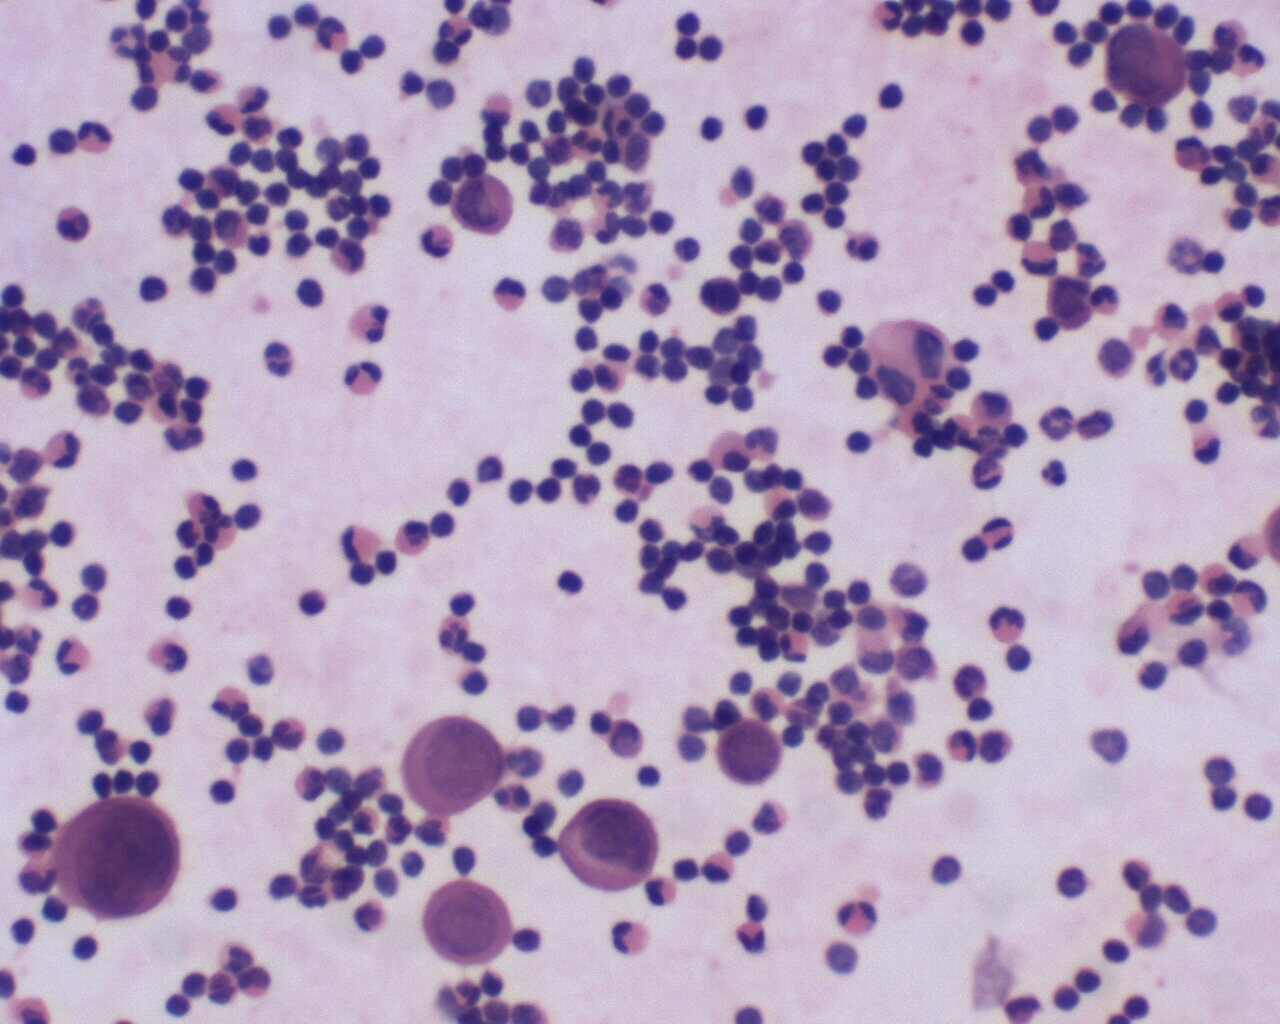ab: (45, 797, 185, 923), (398, 714, 506, 819), (556, 794, 661, 897), (1099, 19, 1193, 111), (424, 880, 516, 967), (712, 716, 785, 788), (449, 171, 513, 237)
lymph: (135, 267, 172, 304), (231, 496, 267, 533), (426, 507, 461, 543), (554, 562, 586, 601), (294, 588, 333, 619), (842, 426, 877, 459), (163, 590, 197, 623), (876, 78, 906, 115), (695, 116, 731, 144), (606, 400, 636, 432)
neutro: (339, 354, 391, 400), (986, 605, 1030, 647), (1018, 178, 1060, 222), (267, 712, 308, 752), (1085, 276, 1123, 318), (417, 220, 457, 260), (1165, 342, 1203, 383), (78, 120, 120, 157), (311, 16, 353, 50), (730, 918, 773, 952)
